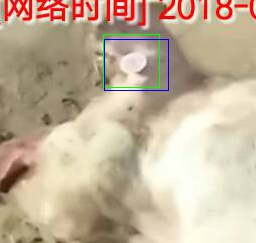text: (103, 34, 159, 87)
